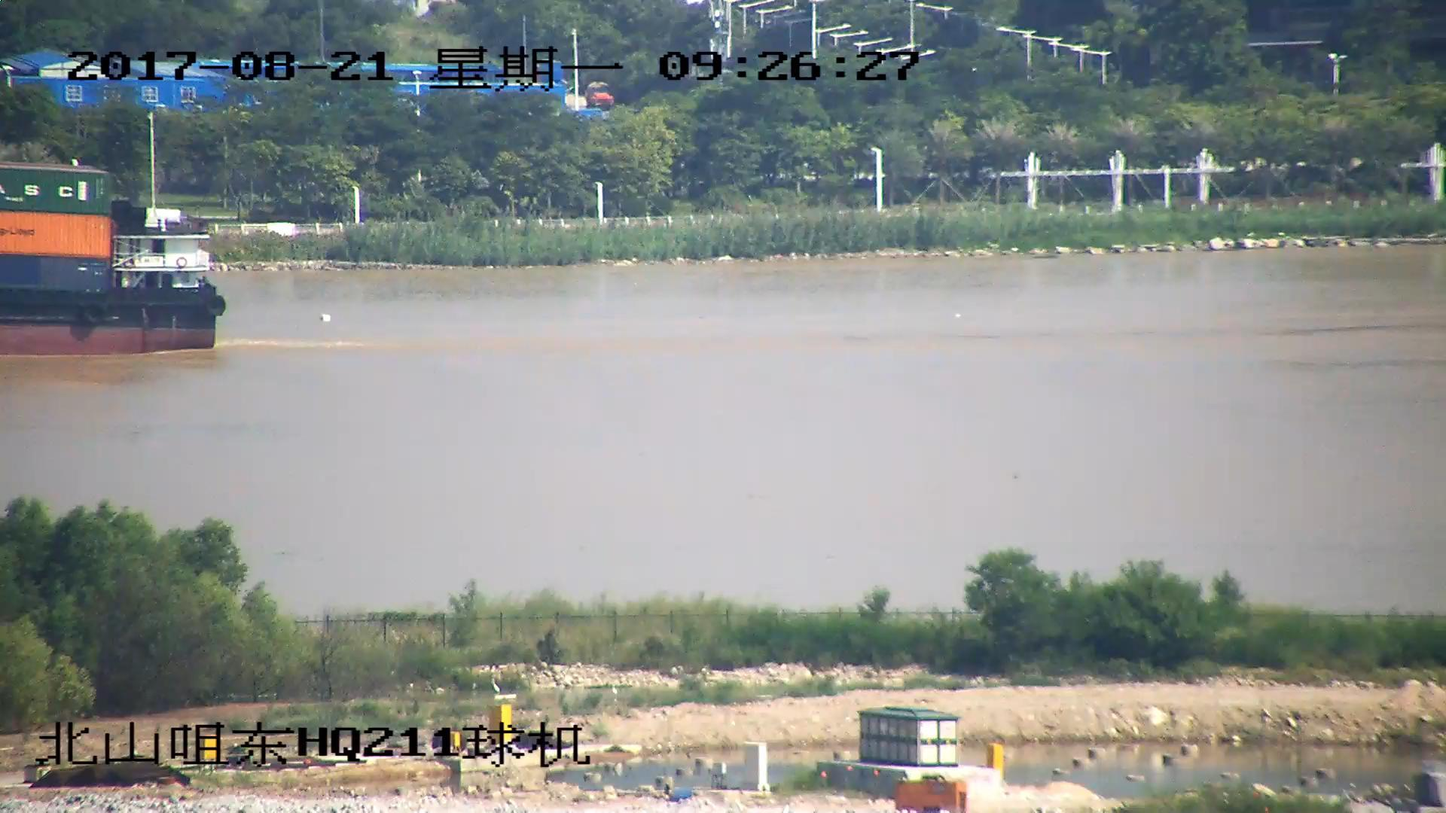container ship: (0, 121, 226, 354)
